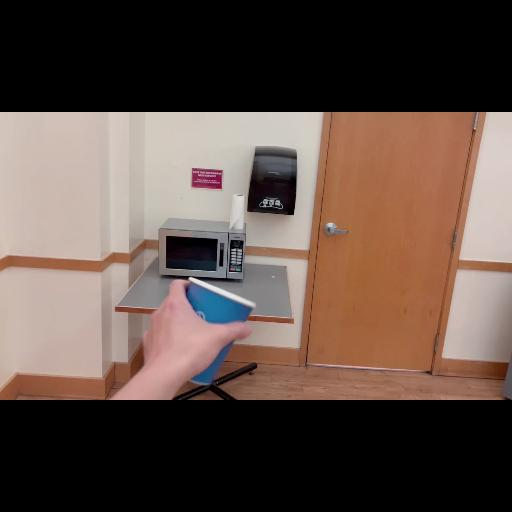lp_paper_cup: (160, 274, 260, 388)
